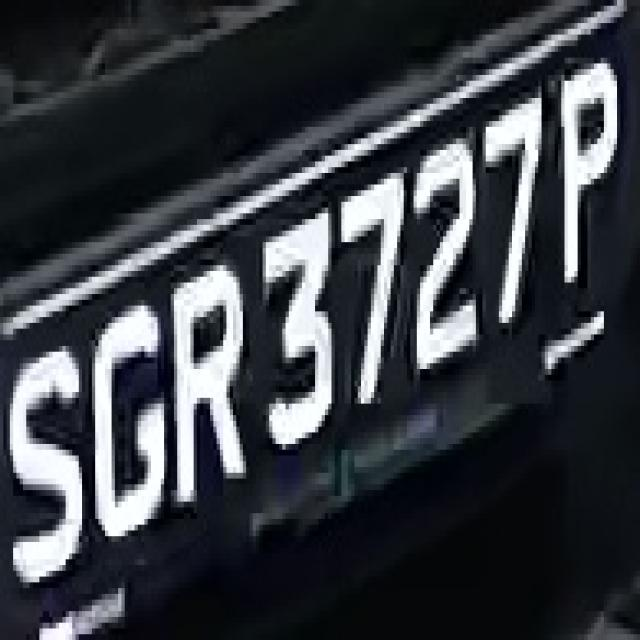2: (400, 132, 489, 380)
3: (252, 208, 344, 461)
7: (334, 150, 414, 427), (472, 87, 552, 340)
G: (85, 288, 174, 548)
P: (551, 35, 627, 312)
R: (161, 242, 256, 519)
S: (3, 306, 89, 582)
